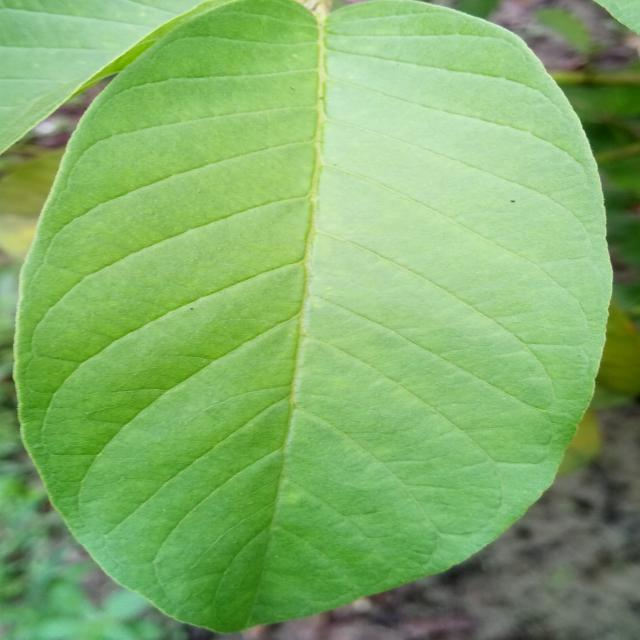Disease Free: (16, 0, 611, 631)
